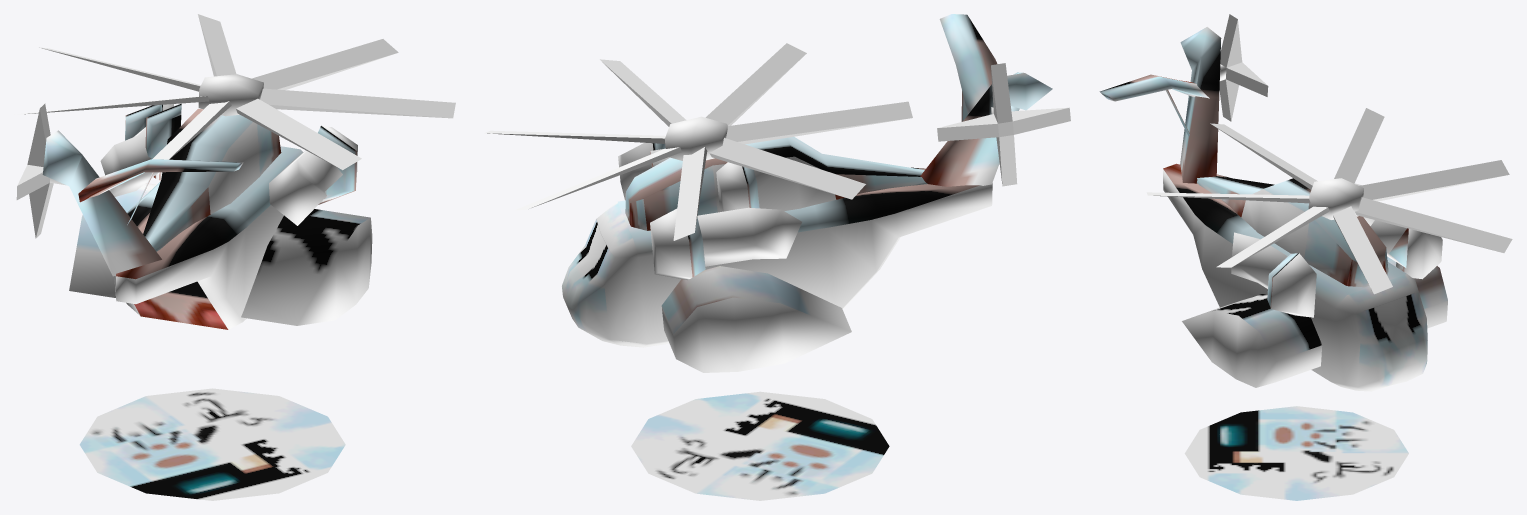
Rendered from static.ico.obj.
3 renders of one model, left to right at view 1: azimuth 30°, elevation 25°; view 2: azimuth 150°, elevation 25°; view 3: azimuth 270°, elevation 25°, orthographic. The views are drawn at different scales.
Size of the model in its own units: 4.46 by 3.63 by 3.87.
